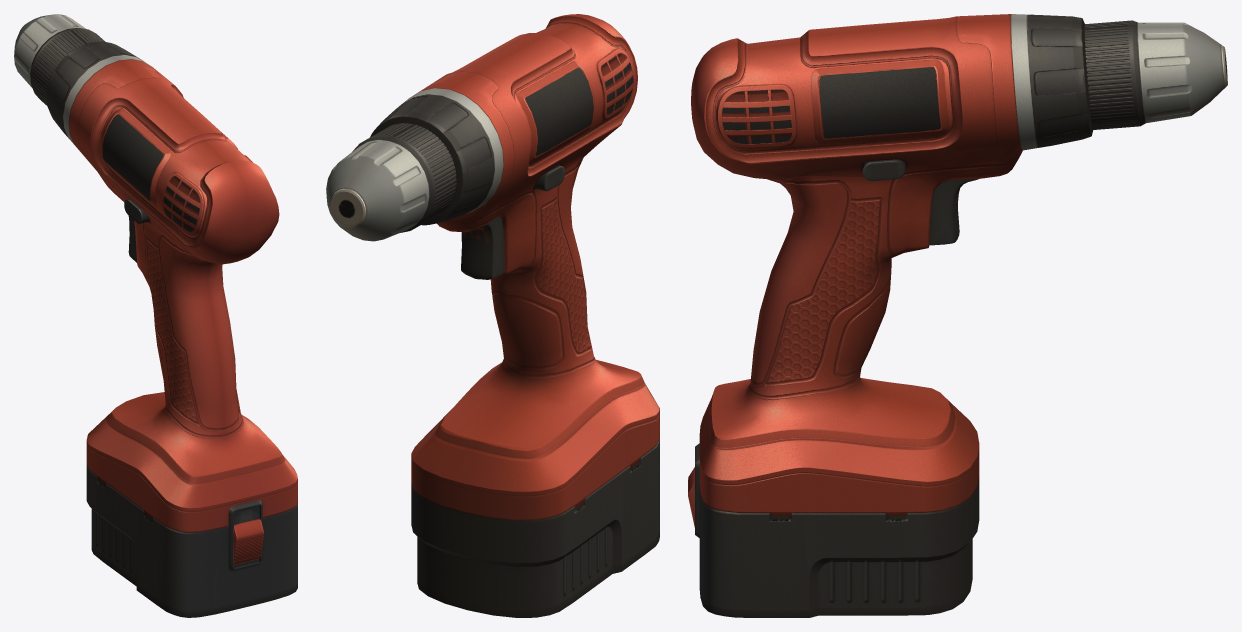
Rendered from drill.dae.
3 renders of one model, left to right at view 1: azimuth 30°, elevation 25°; view 2: azimuth 150°, elevation 25°; view 3: azimuth 270°, elevation 25°, orthographic. The views are drawn at different scales.
Parts seen in each view (by area): view 1: Drill; view 2: Drill; view 3: Drill.
Part boxes in pixels (x1=…): Drill: x1=14, y1=14, x2=297, y2=617; Drill: x1=326, y1=14, x2=659, y2=617; Drill: x1=688, y1=14, x2=1227, y2=617.
Size of the model in its own units: 7.56 by 22.29 by 25.49.
Materials: 1 (1 with a texture image).
